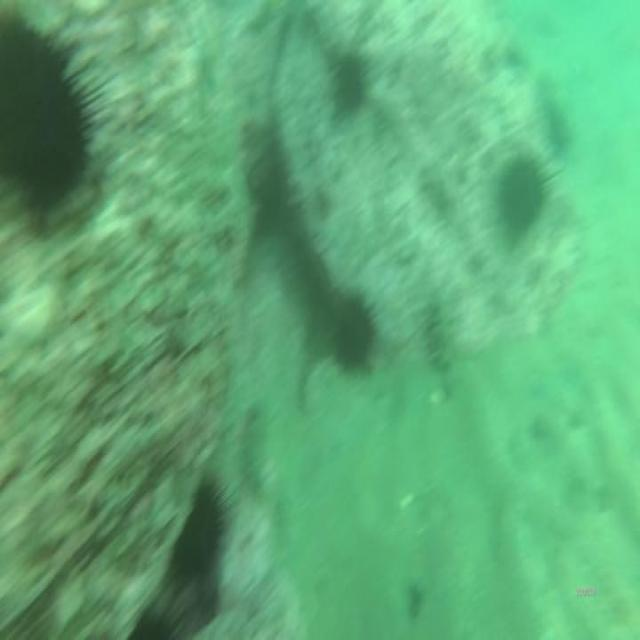echinus: (0, 9, 90, 207), (172, 474, 228, 588), (501, 144, 546, 246), (332, 286, 374, 382), (332, 49, 370, 119)
